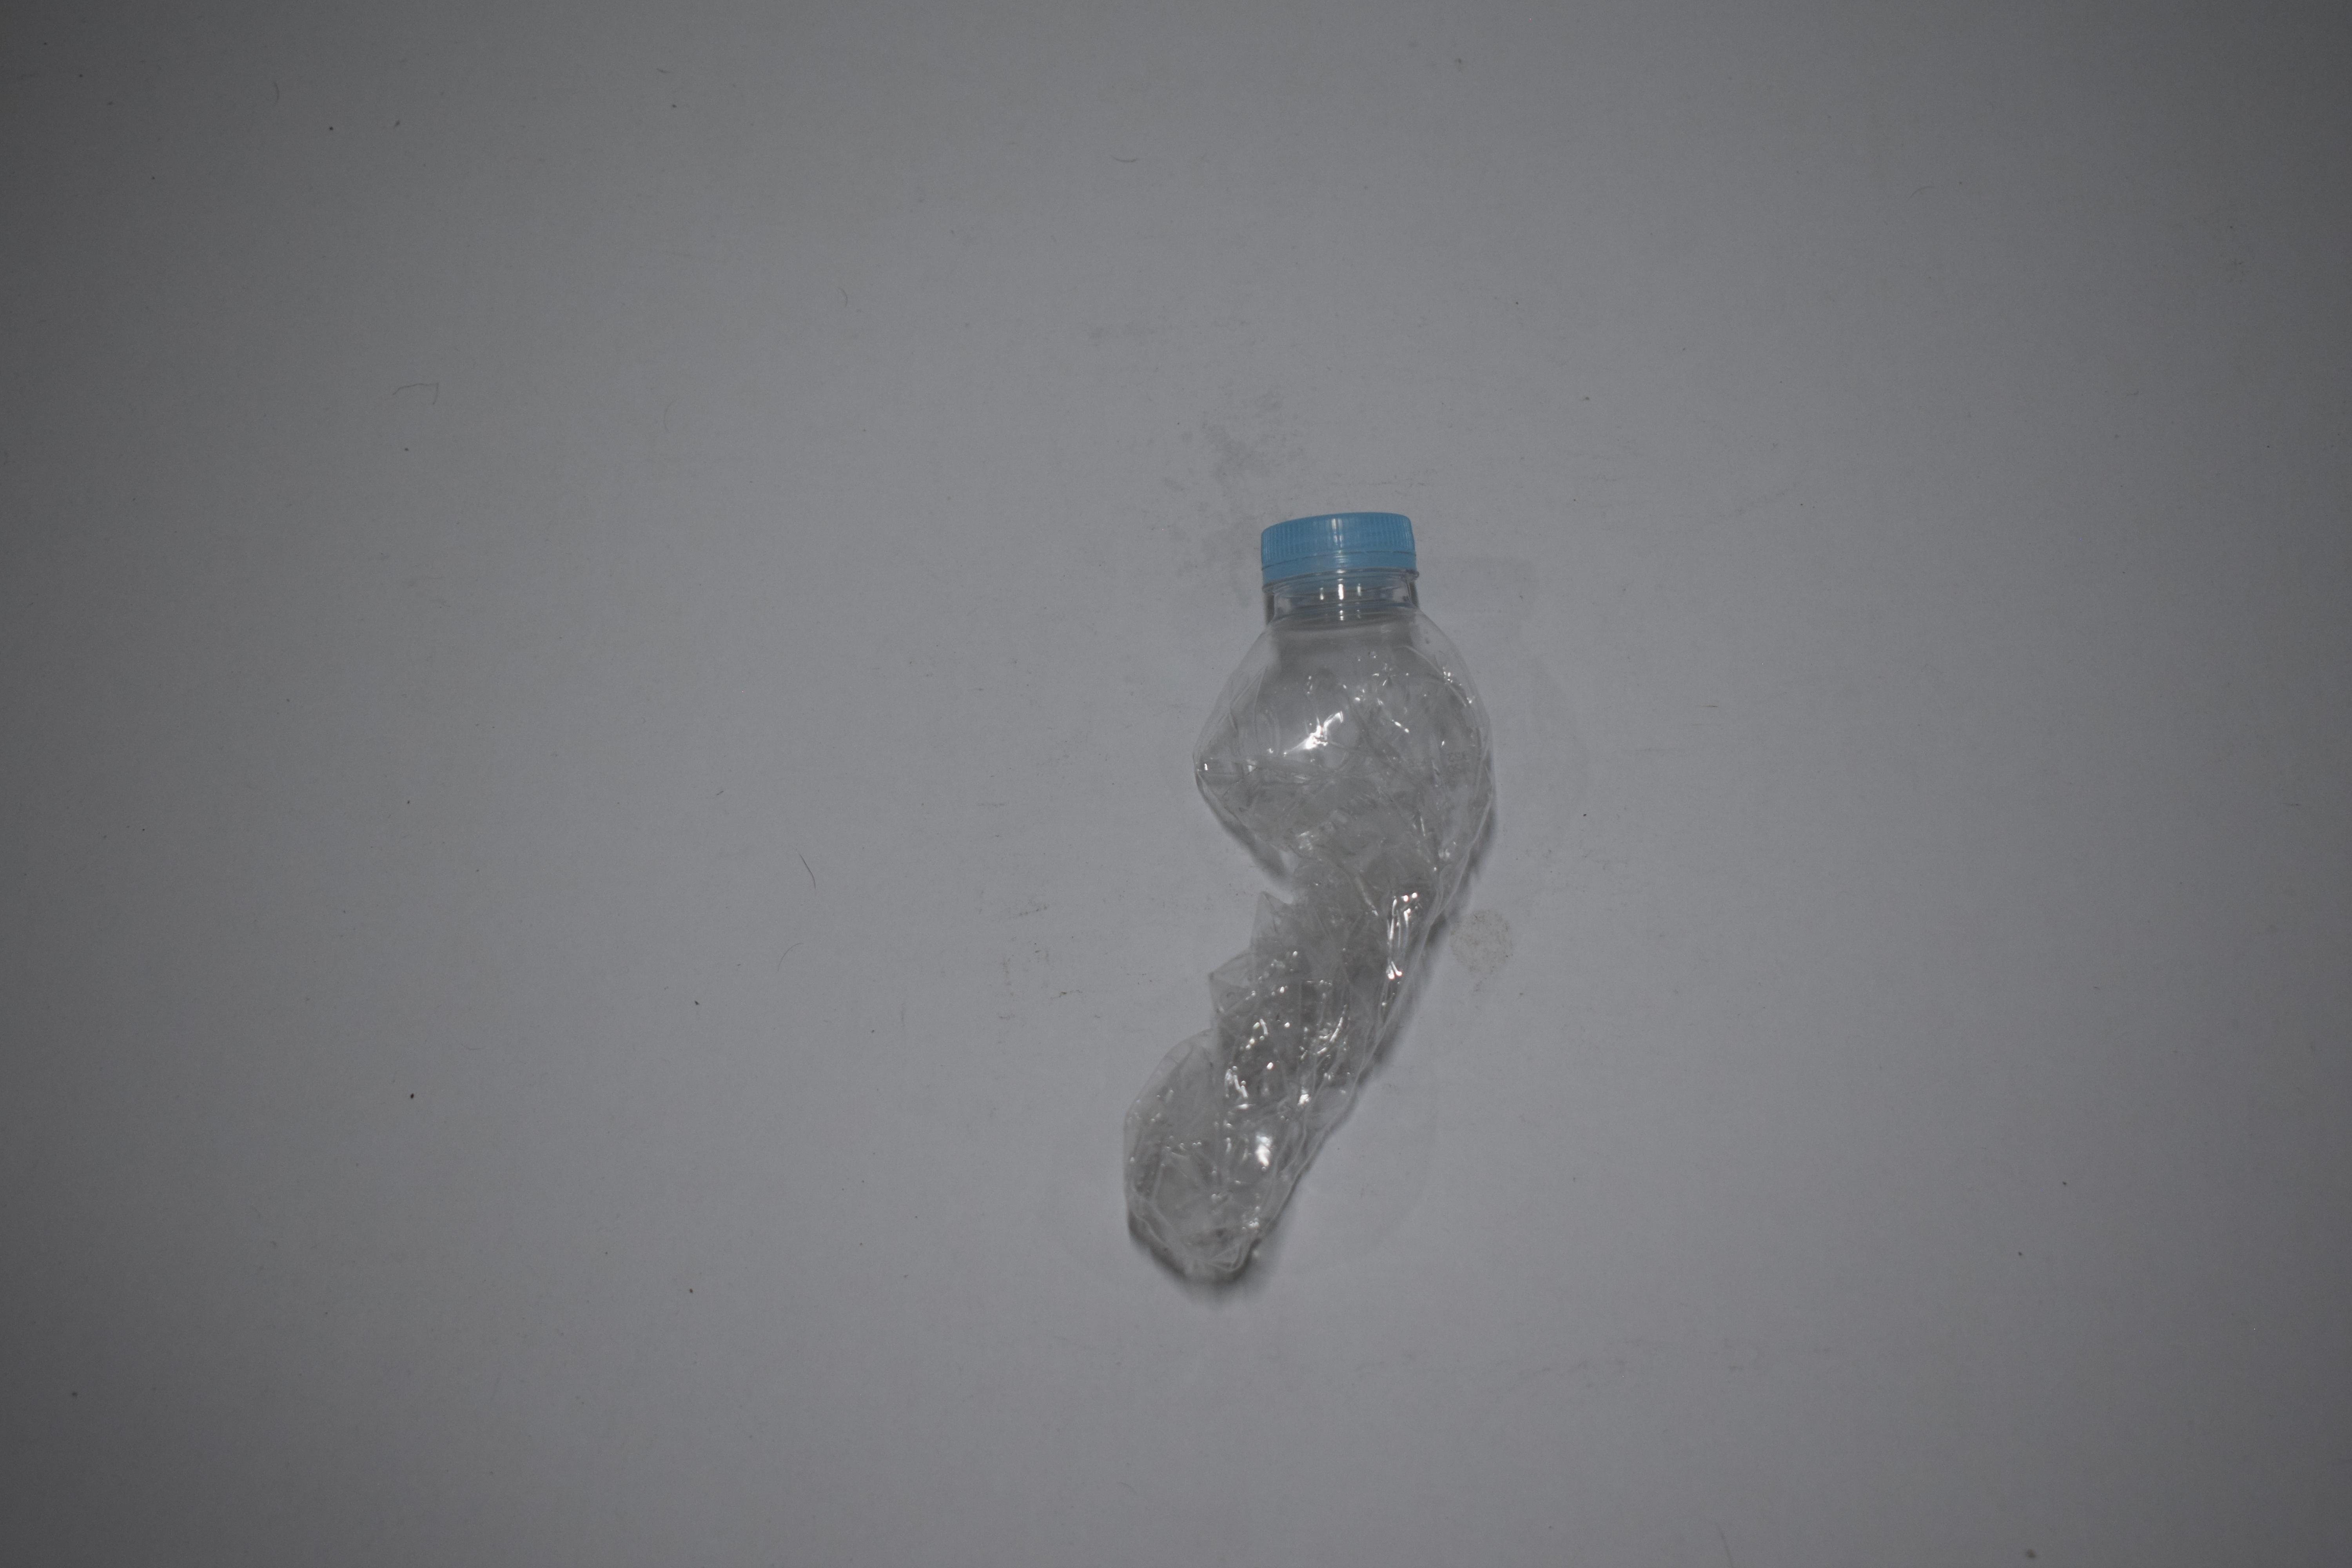bottle: (0, 107, 215, 124)
